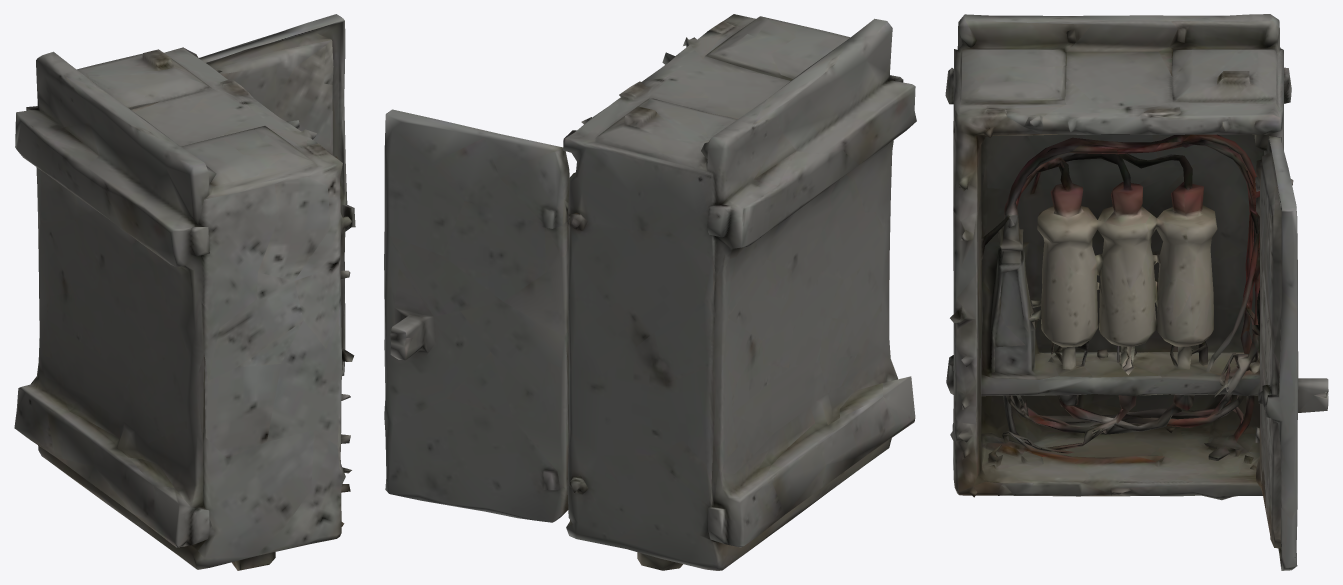
Rendered from fusebox.glb.
3 renders of one model, left to right at view 1: azimuth 30°, elevation 25°; view 2: azimuth 150°, elevation 25°; view 3: azimuth 270°, elevation 25°, orthographic. The views are drawn at different scales.
Parts seen in each view (by area): view 1: tripo_node_f1f895f2-c8e2-44a8-8f10-401ce4837b93; view 2: tripo_node_f1f895f2-c8e2-44a8-8f10-401ce4837b93; view 3: tripo_node_f1f895f2-c8e2-44a8-8f10-401ce4837b93.
Boxes of the visible parts, <box> form: tripo_node_f1f895f2-c8e2-44a8-8f10-401ce4837b93: <box>14,14,355,570</box>; tripo_node_f1f895f2-c8e2-44a8-8f10-401ce4837b93: <box>384,14,916,570</box>; tripo_node_f1f895f2-c8e2-44a8-8f10-401ce4837b93: <box>945,14,1328,570</box>.
Bounding box in the file's own units: 0.8383 × 1 × 0.8198.
1 material, 1 textured.
